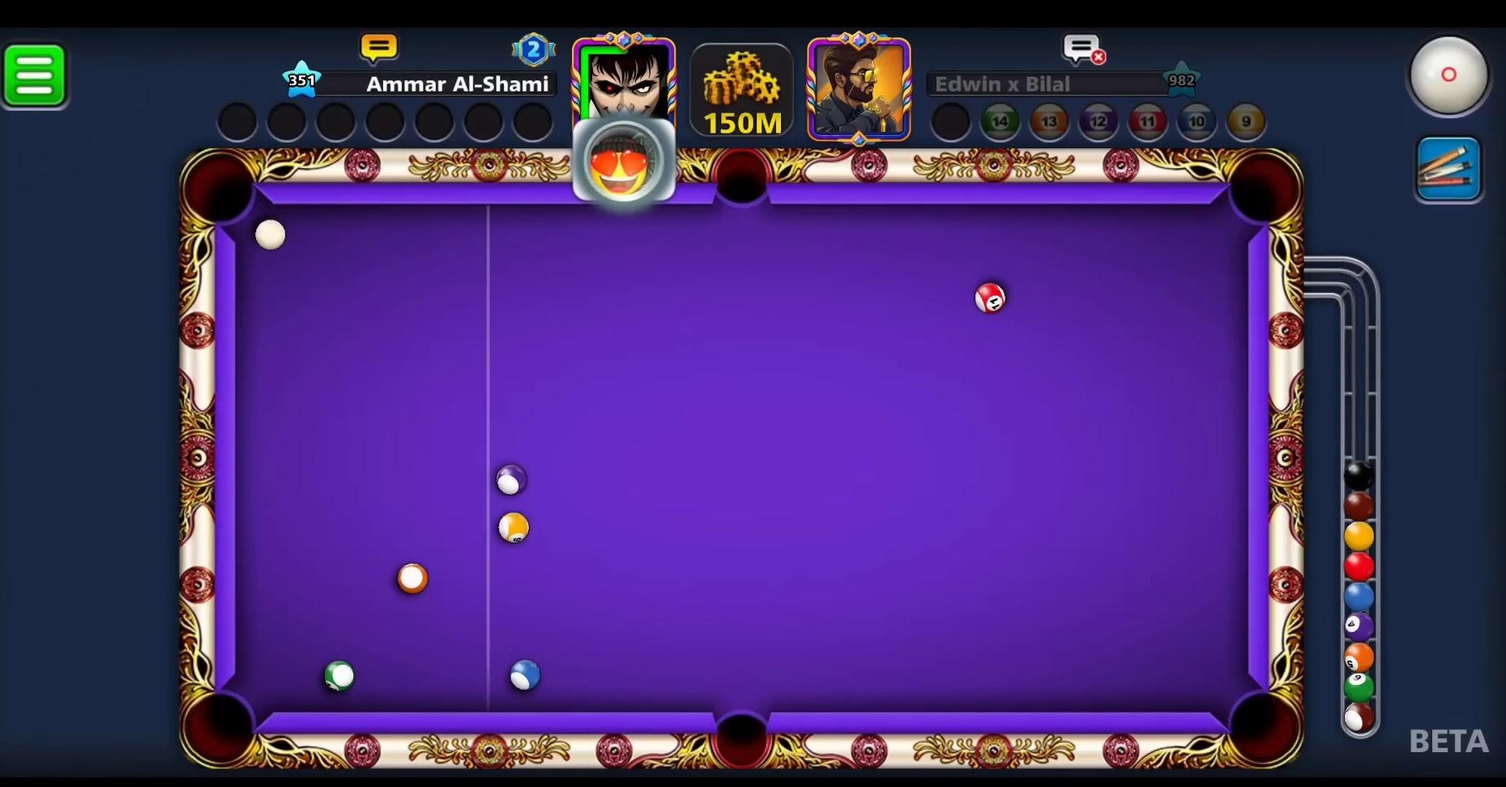Ball: (497, 653, 547, 698), (390, 561, 438, 602), (315, 656, 364, 696), (487, 460, 535, 500), (493, 509, 537, 547), (971, 277, 1009, 320)
Hole: (164, 678, 272, 774), (1210, 675, 1309, 776), (173, 140, 272, 236), (696, 688, 790, 775), (1217, 143, 1306, 234), (703, 143, 783, 221)
Play_Area: (236, 204, 1248, 713)
Spin: (1402, 28, 1504, 130)
White: (250, 214, 292, 253)
